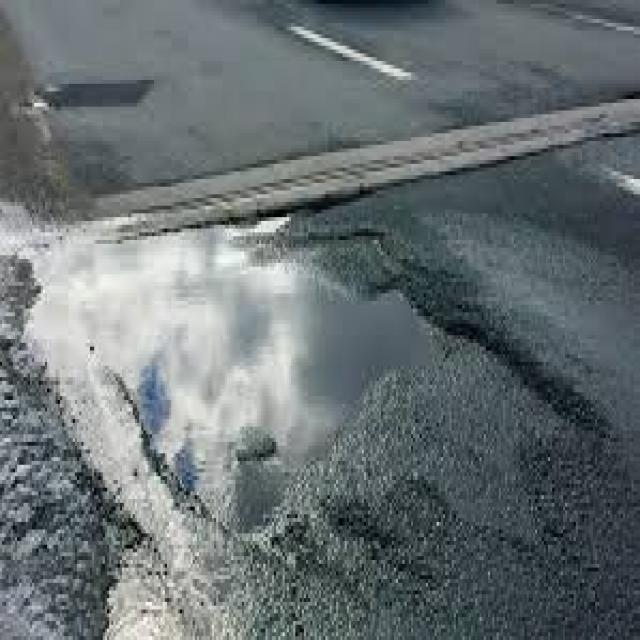Pothole: (18, 188, 470, 553)
